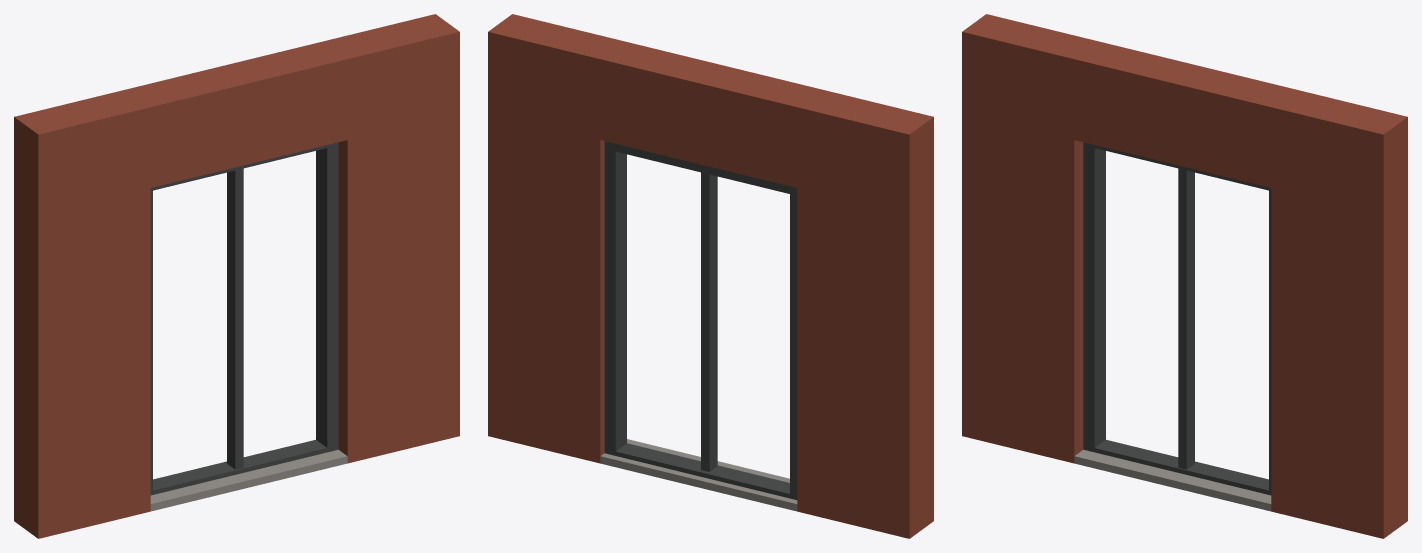
The model's file is Kit_brick_frenchwindow.fbx.
3 views of the same model, side by side, from view 1: azimuth 30°, elevation 25°; view 2: azimuth 150°, elevation 25°; view 3: azimuth 330°, elevation 25° (orthographic).
Visible parts, largest first — view 1: WallJambL, WallJambR, WallAbove, FrameR, Mullion, Threshold, FrameBottom, FrameL, FrameTop; view 2: WallJambL, WallJambR, WallAbove, FrameR, Mullion, Threshold, FrameBottom, FrameL, FrameTop; view 3: WallJambR, WallJambL, WallAbove, FrameL, Mullion, Threshold, FrameBottom, FrameR, FrameTop.
Boxes of the visible parts, x1,y1,x2,y2 form: WallJambL: [14, 89, 150, 538]; WallJambR: [323, 14, 459, 463]; WallAbove: [127, 41, 347, 187]; FrameR: [316, 142, 338, 451]; Mullion: [227, 168, 243, 469]; Threshold: [150, 449, 347, 511]; FrameBottom: [151, 440, 338, 494]; FrameL: [150, 187, 152, 495]; FrameTop: [150, 145, 327, 190]; WallJambL: [797, 89, 933, 538]; WallJambR: [488, 14, 624, 463]; WallAbove: [600, 41, 820, 187]; FrameR: [604, 141, 626, 455]; Mullion: [701, 172, 717, 471]; Threshold: [600, 439, 797, 511]; FrameBottom: [605, 443, 797, 499]; FrameL: [790, 186, 797, 495]; FrameTop: [615, 144, 797, 195]; WallJambR: [1271, 89, 1407, 538]; WallJambL: [962, 14, 1098, 463]; WallAbove: [1074, 41, 1294, 187]; FrameL: [1083, 142, 1105, 451]; Mullion: [1178, 168, 1194, 469]; Threshold: [1074, 449, 1271, 511]; FrameBottom: [1083, 440, 1270, 494]; FrameR: [1269, 188, 1271, 495]; FrameTop: [1094, 145, 1271, 190].
Size of the model in its own units: 300 by 30 by 275.
